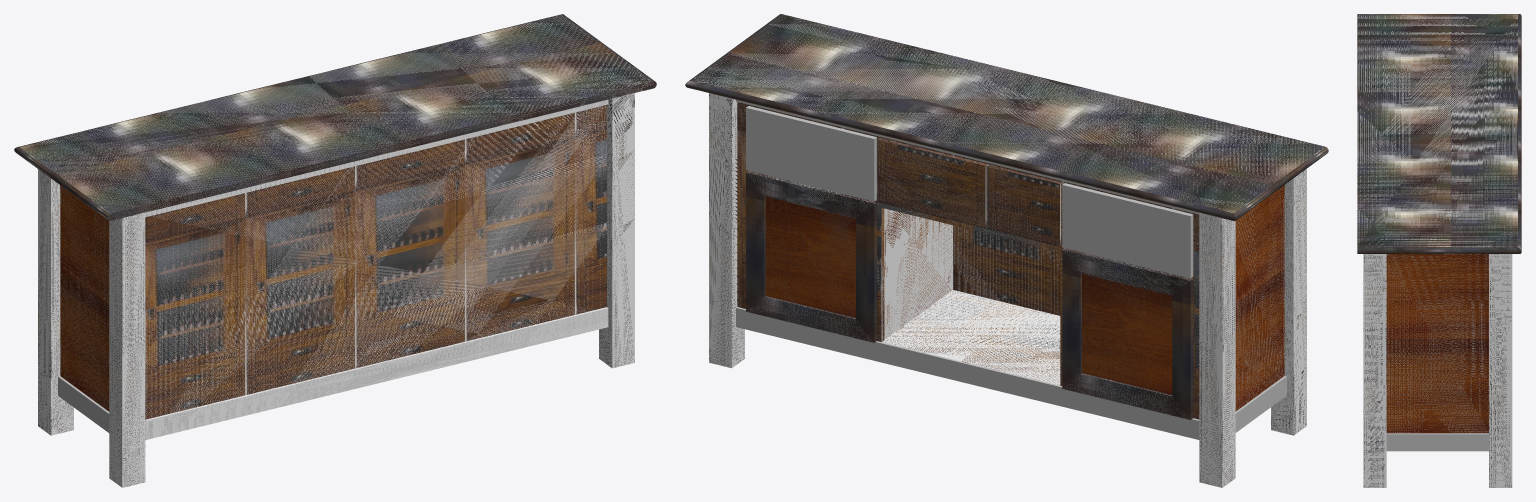
3 renders of one model, left to right at view 1: azimuth 30°, elevation 25°; view 2: azimuth 150°, elevation 25°; view 3: azimuth 270°, elevation 25°, orthographic. The views are drawn at different scales.
Parts seen in each view (by area): view 1: mesh33_mesh33-geometry, mesh7_mesh7-geometry, mesh5_mesh5-geometry, mesh34_mesh34-geometry, mesh38_mesh38-geometry, mesh35_mesh35-geometry, mesh8_mesh8-geometry, mesh36_mesh36-geometry; view 2: mesh7_mesh7-geometry, mesh5_mesh5-geometry, mesh14_mesh14-geometry, mesh15_mesh15-geometry, mesh25_mesh25-geometry, mesh32_mesh32-geometry, mesh38_mesh38-geometry, mesh16_mesh16-geometry, mesh12_mesh12-geometry, mesh30_mesh30-geometry, mesh33_mesh33-geometry, mesh3_mesh3-geometry (+4 smaller); view 3: mesh7_mesh7-geometry, mesh38_mesh38-geometry, mesh5_mesh5-geometry, mesh8_mesh8-geometry, mesh36_mesh36-geometry.
Boxes of the visible parts, x1=… form: mesh33_mesh33-geometry: x1=145, y1=105, x2=606, y2=419; mesh7_mesh7-geometry: x1=20, y1=14, x2=653, y2=219; mesh5_mesh5-geometry: x1=38, y1=93, x2=634, y2=487; mesh34_mesh34-geometry: x1=145, y1=307, x2=608, y2=439; mesh38_mesh38-geometry: x1=60, y1=185, x2=109, y2=411; mesh35_mesh35-geometry: x1=145, y1=99, x2=608, y2=217; mesh8_mesh8-geometry: x1=14, y1=14, x2=656, y2=220; mesh36_mesh36-geometry: x1=58, y1=376, x2=109, y2=432; mesh7_mesh7-geometry: x1=691, y1=14, x2=1324, y2=213; mesh5_mesh5-geometry: x1=709, y1=93, x2=1306, y2=487; mesh14_mesh14-geometry: x1=746, y1=170, x2=1193, y2=419; mesh15_mesh15-geometry: x1=765, y1=196, x2=1172, y2=394; mesh25_mesh25-geometry: x1=876, y1=137, x2=1062, y2=246; mesh32_mesh32-geometry: x1=882, y1=290, x2=1060, y2=385; mesh38_mesh38-geometry: x1=1235, y1=185, x2=1284, y2=411; mesh16_mesh16-geometry: x1=736, y1=307, x2=1199, y2=439; mesh12_mesh12-geometry: x1=1062, y1=183, x2=1193, y2=278; mesh30_mesh30-geometry: x1=746, y1=106, x2=876, y2=201; mesh33_mesh33-geometry: x1=953, y1=225, x2=1060, y2=315; mesh3_mesh3-geometry: x1=884, y1=208, x2=952, y2=339; mesh7_mesh7-geometry: x1=1357, y1=14, x2=1517, y2=247; mesh38_mesh38-geometry: x1=1386, y1=254, x2=1488, y2=433; mesh5_mesh5-geometry: x1=1363, y1=254, x2=1512, y2=487; mesh8_mesh8-geometry: x1=1357, y1=14, x2=1521, y2=253; mesh36_mesh36-geometry: x1=1386, y1=433, x2=1488, y2=451.
Size of the model in its own units: 0.8691 by 0.4237 by 0.2553.
